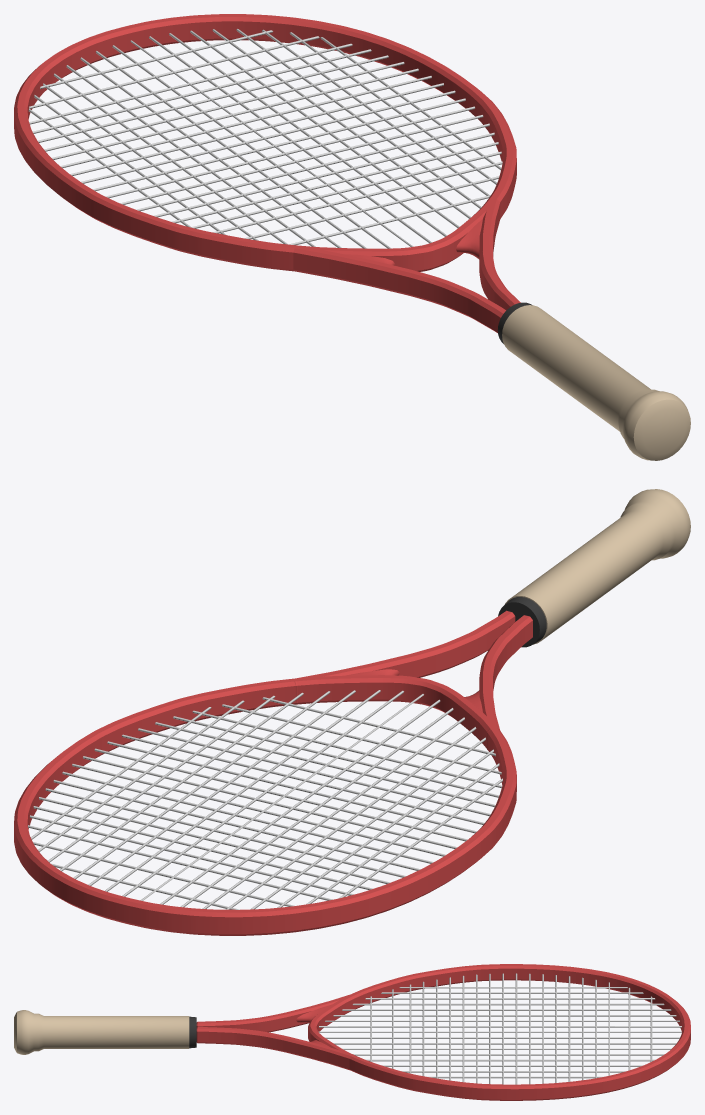
Rendered from tennis.fbx.
3 views of the same model, one above another, from view 1: azimuth 30°, elevation 25°; view 2: azimuth 150°, elevation 25°; view 3: azimuth 270°, elevation 25° (orthographic). The views are drawn at different scales.
Parts seen in each view (by area): view 1: tennis_frame, tennis_strings_horizontal, tennis_strings_vertical, tennis_handle, tennis_frame_mold; view 2: tennis_frame, tennis_strings_horizontal, tennis_strings_vertical, tennis_handle; view 3: tennis_frame, tennis_strings_vertical, tennis_handle, tennis_strings_horizontal, tennis_frame_mold.
Part boxes in pixels (x1,y1,x2,y2): tennis_frame: [14, 14, 520, 332]; tennis_strings_horizontal: [29, 30, 502, 245]; tennis_strings_vertical: [28, 29, 501, 248]; tennis_handle: [497, 302, 690, 460]; tennis_frame_mold: [345, 219, 482, 265]; tennis_frame: [14, 610, 532, 935]; tennis_strings_horizontal: [28, 697, 502, 909]; tennis_strings_vertical: [31, 690, 502, 909]; tennis_handle: [498, 489, 690, 647]; tennis_frame: [196, 964, 690, 1100]; tennis_strings_vertical: [318, 987, 681, 1078]; tennis_handle: [14, 1010, 196, 1054]; tennis_strings_horizontal: [370, 973, 652, 1084]; tennis_frame_mold: [296, 1004, 331, 1047].
Size of what is drawn, in the model's own units: 27.57 by 4.23 by 63.57.
